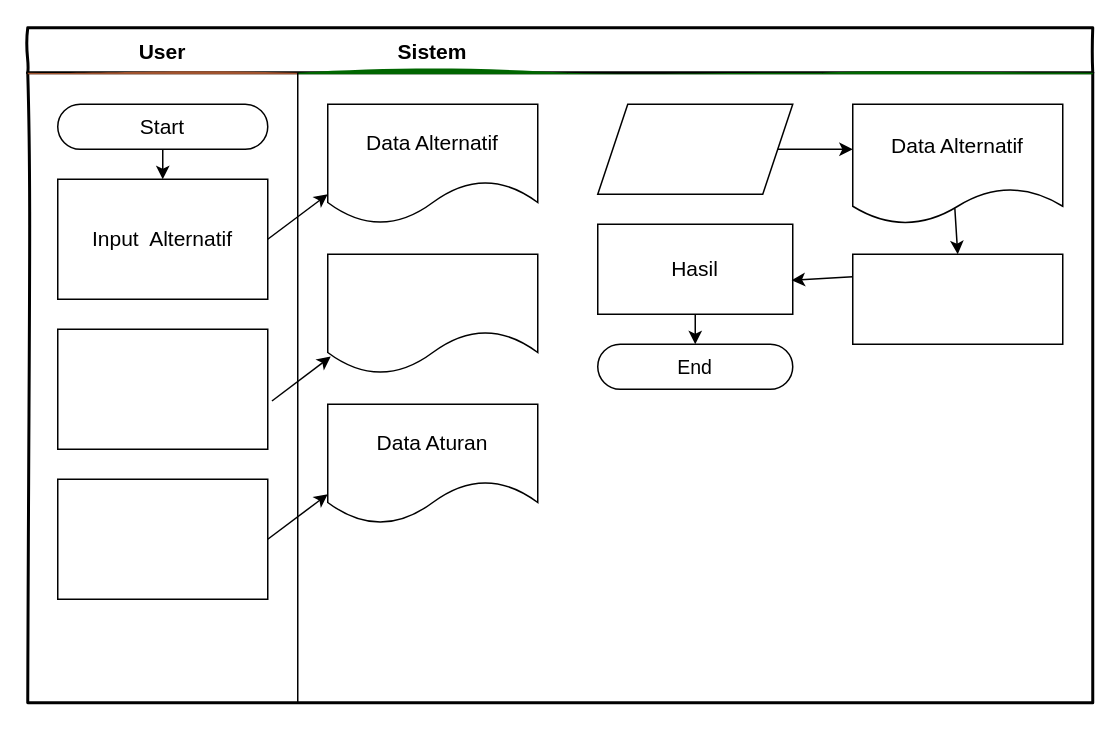
The diagram is 1119 pixels wide and 731 high, and some of its shapes have lost their labels. Each missing label, with the box of its shape:
Data Kriteria: (326, 253, 538, 374)
Input Aturan: (56, 478, 268, 599)
Input Bahan Alternatif: (596, 103, 793, 194)
Input Kriteria: (56, 328, 268, 449)
Perhitungan: (851, 253, 1063, 344)
